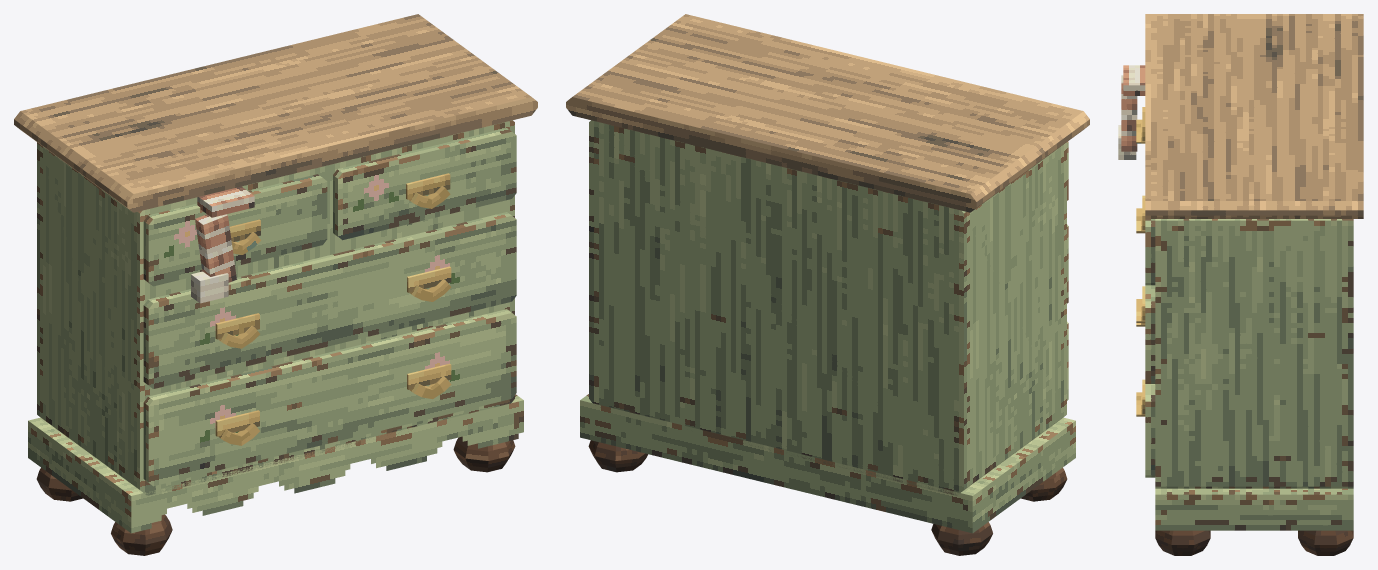
File: painted_dresser.glb
3 views of the same model, side by side, from view 1: azimuth 30°, elevation 25°; view 2: azimuth 150°, elevation 25°; view 3: azimuth 270°, elevation 25° (orthographic). The views are drawn at different scales.
Parts seen in each view (by area): view 1: top, carcass, drawer3, drawer2, apron, drawer1, drawer, sock, foot1, foot3, sockcuff, sockheel (+6 smaller); view 2: carcass, top, apron, foot, foot2, foot1; view 3: carcass, top, apron, foot3, foot2, drawer2, drawer3, sock, drawer1, sockcuff.
Boxes of the visible parts, x1,y1,x2,y2 form: top: [14, 14, 537, 212]; carcass: [37, 120, 514, 495]; drawer3: [143, 309, 516, 486]; drawer2: [143, 212, 516, 388]; apron: [28, 394, 523, 533]; drawer1: [333, 128, 516, 240]; drawer: [143, 174, 327, 286]; sock: [195, 214, 236, 282]; foot1: [111, 514, 172, 555]; foot3: [453, 436, 515, 472]; sockcuff: [197, 186, 254, 217]; sockheel: [191, 271, 228, 303]; carcass: [589, 120, 1066, 495]; top: [566, 14, 1089, 212]; apron: [580, 394, 1075, 533]; foot: [931, 522, 992, 555]; foot2: [588, 440, 647, 472]; foot1: [1021, 467, 1067, 501]; carcass: [1155, 219, 1353, 488]; top: [1145, 14, 1363, 218]; apron: [1155, 488, 1353, 530]; foot3: [1155, 530, 1210, 555]; foot2: [1298, 530, 1353, 555]; drawer2: [1145, 285, 1155, 383]; drawer3: [1145, 384, 1155, 477]; sock: [1121, 75, 1137, 151]; drawer1: [1145, 219, 1155, 285]; sockcuff: [1123, 65, 1145, 95].
Size of the model in its own units: 1.44 by 1.25 by 0.7719.
Materials: 1 (1 with a texture image).
